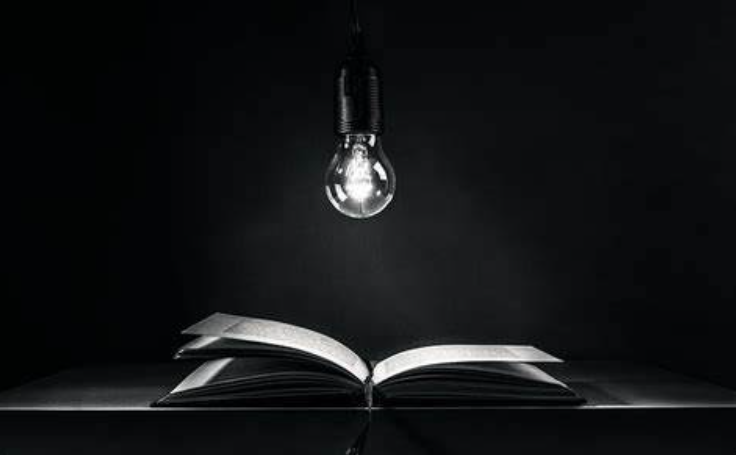book: (149, 311, 588, 413)
